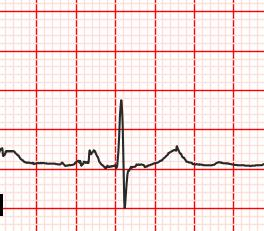ST Depression: (100, 158, 137, 214)
